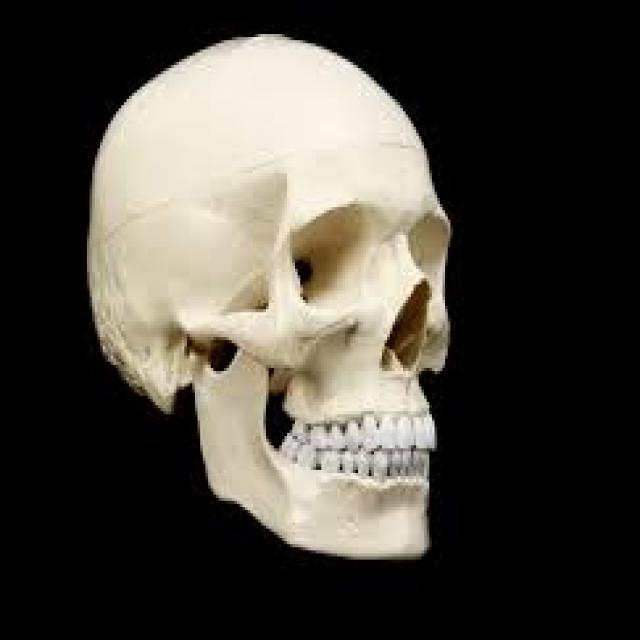skull: (76, 33, 452, 579)
